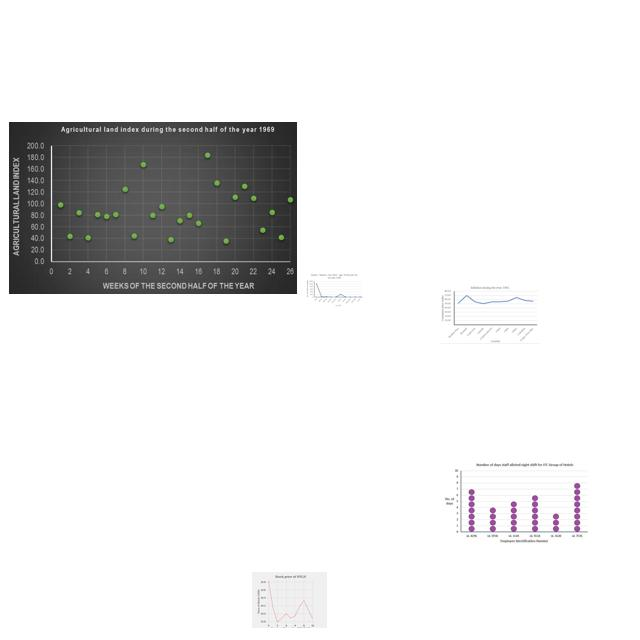Graph: (9, 122, 297, 294), (440, 461, 591, 546), (441, 285, 539, 344), (252, 572, 327, 628), (305, 273, 364, 308)
